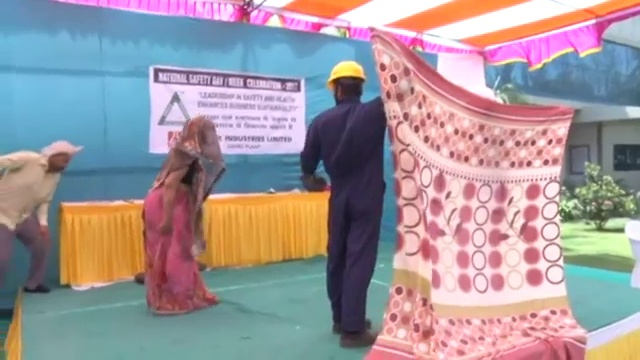helmet: (324, 59, 367, 89)
helmet_off: (40, 140, 80, 174), (184, 115, 216, 146)
helmet_on: (323, 59, 368, 103)
person: (299, 59, 387, 348), (136, 115, 227, 321), (1, 139, 84, 322)
